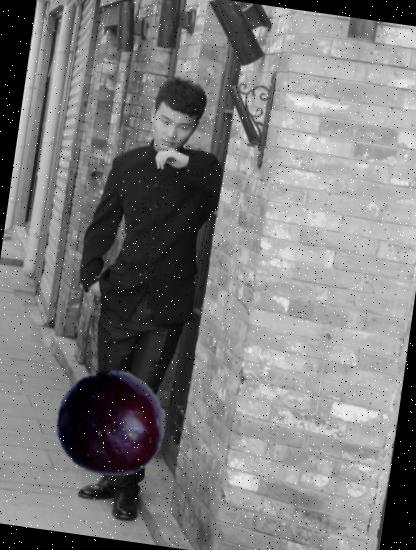Plum: (48, 362, 174, 488)
